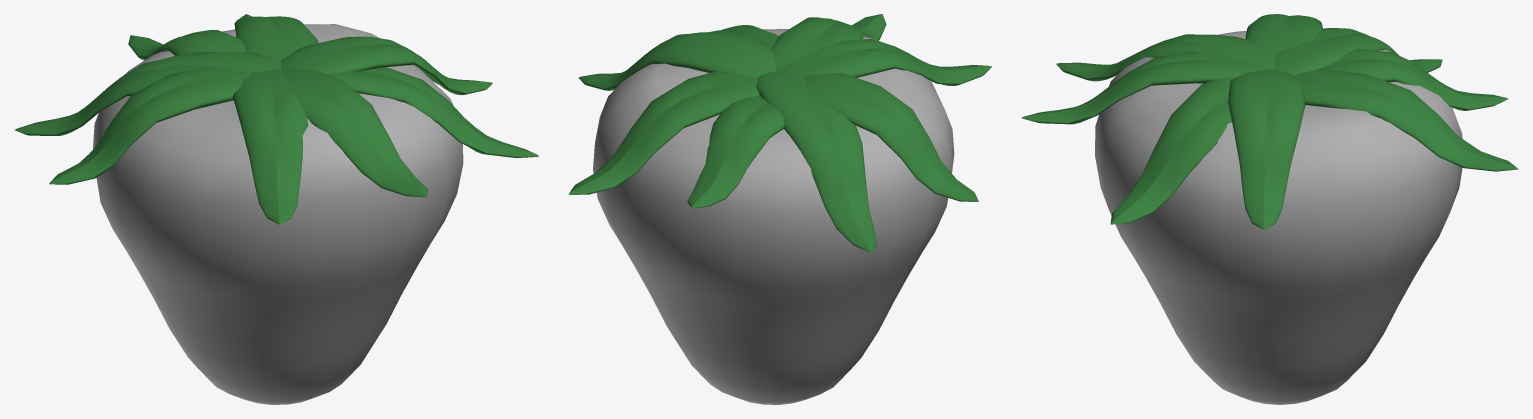
Rendered from Strawberry.fbx.
3 views of the same model, side by side, from view 1: azimuth 30°, elevation 25°; view 2: azimuth 150°, elevation 25°; view 3: azimuth 270°, elevation 25° (orthographic). The views are drawn at different scales.
Visible parts, largest first — view 1: Base, Leaf_6, Leaf_4, Leaf_7, Leaf_8, Leaf_3, Leaf_1, Leaf_2, Leaf_5; view 2: Base, Leaf_3, Leaf_7, Leaf_2, Leaf_5, Leaf_1, Leaf_6, Leaf_4, Leaf_8; view 3: Base, Leaf_1, Leaf_2, Leaf_8, Leaf_4, Leaf_6, Leaf_5, Leaf_3, Leaf_7.
Boxes of the visible parts, <box> form: Base: <box>93,24,463,404</box>; Leaf_6: <box>232,69,307,224</box>; Leaf_4: <box>281,69,427,197</box>; Leaf_7: <box>49,66,250,184</box>; Leaf_8: <box>322,67,538,157</box>; Leaf_3: <box>14,52,281,135</box>; Leaf_1: <box>280,36,492,95</box>; Leaf_2: <box>234,14,318,60</box>; Leaf_5: <box>128,30,246,60</box>; Base: <box>593,29,954,404</box>; Leaf_3: <box>756,71,876,252</box>; Leaf_7: <box>803,73,978,201</box>; Leaf_2: <box>568,71,759,194</box>; Leaf_5: <box>687,95,784,208</box>; Leaf_1: <box>578,32,776,90</box>; Leaf_6: <box>776,39,992,85</box>; Leaf_4: <box>771,14,886,70</box>; Leaf_8: <box>711,25,778,47</box>; Base: <box>1095,31,1462,404</box>; Leaf_1: <box>1228,69,1305,230</box>; Leaf_2: <box>1294,68,1518,171</box>; Leaf_8: <box>1110,77,1234,224</box>; Leaf_4: <box>1021,51,1273,124</box>; Leaf_6: <box>1056,34,1276,81</box>; Leaf_5: <box>1325,49,1508,110</box>; Leaf_3: <box>1274,28,1442,75</box>; Leaf_7: <box>1245,14,1322,53</box>.
Size of the model in its own units: 3.17 by 2.38 by 3.23.
